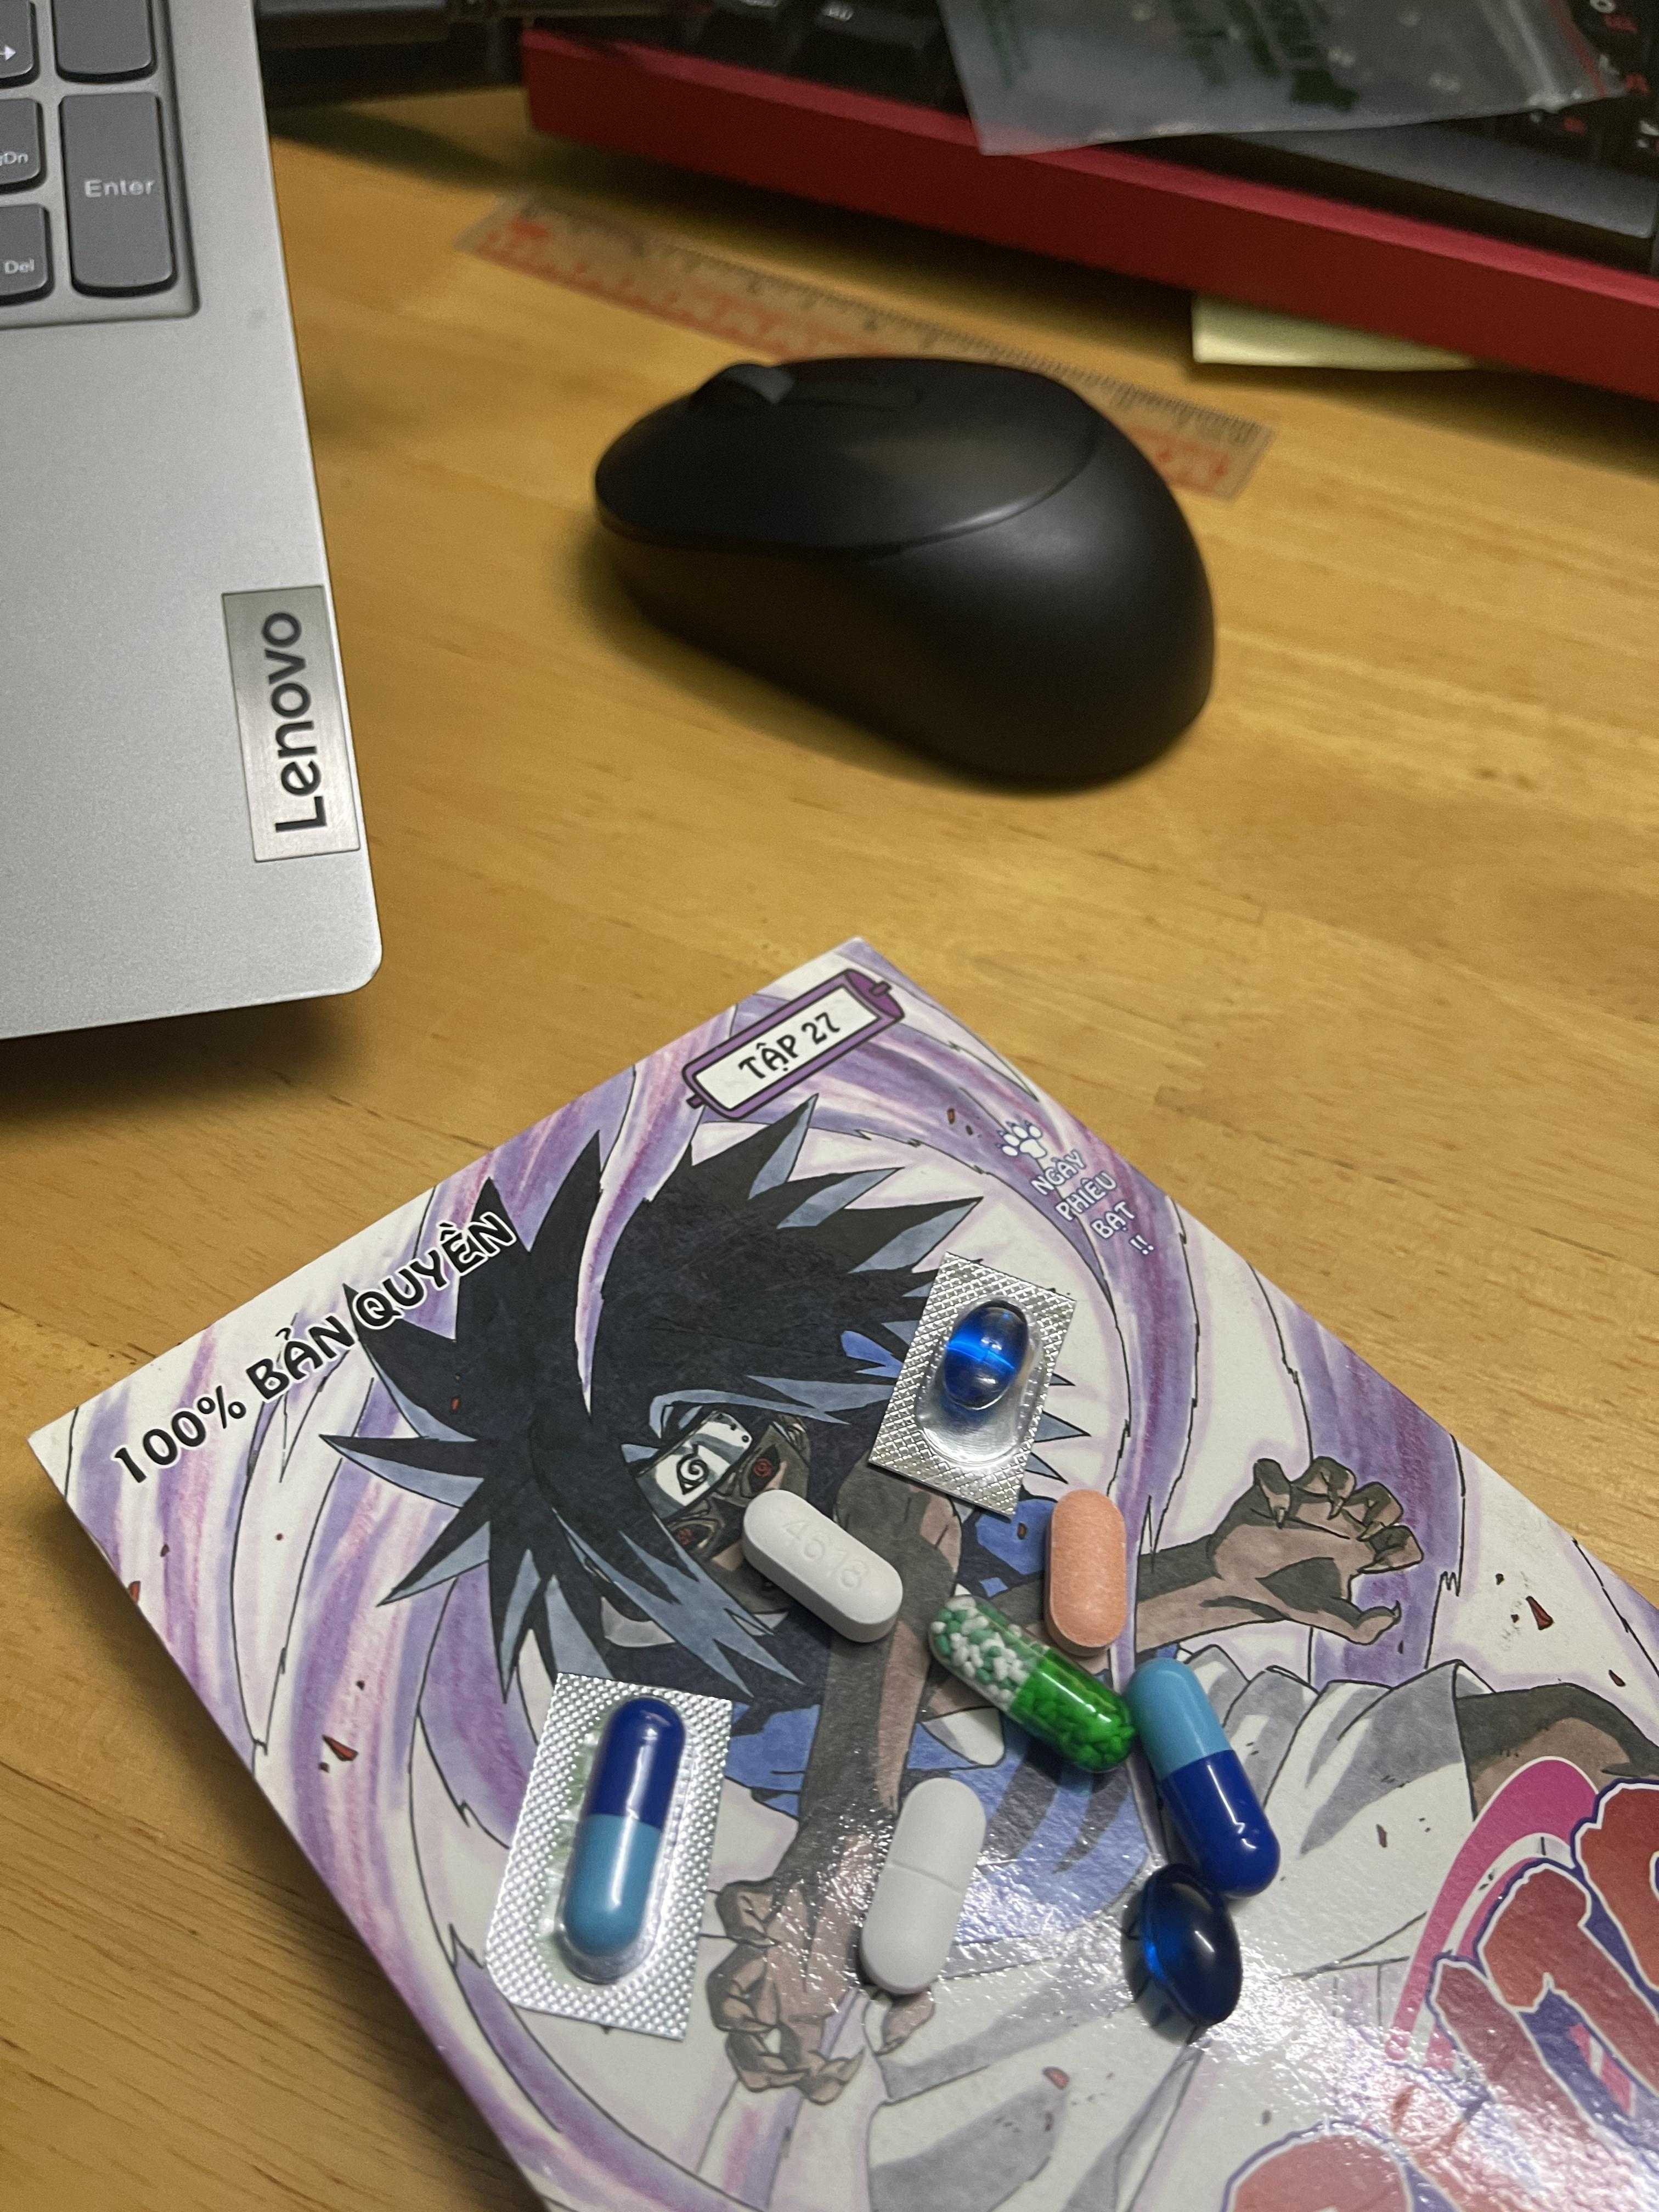Lincomyxin_500mg: (1133, 1871, 1243, 2026), (936, 1310, 1023, 1418)
Loratadine_10mg: (1046, 1493, 1127, 1649)
Paracetamol_350mg: (857, 1775, 983, 1994)
Paracetamol_500mg: (739, 1484, 901, 1639)
Paracetamol_650mg: (934, 1599, 1126, 1766)
pill: (554, 1703, 683, 1975), (1129, 1651, 1276, 1885)
